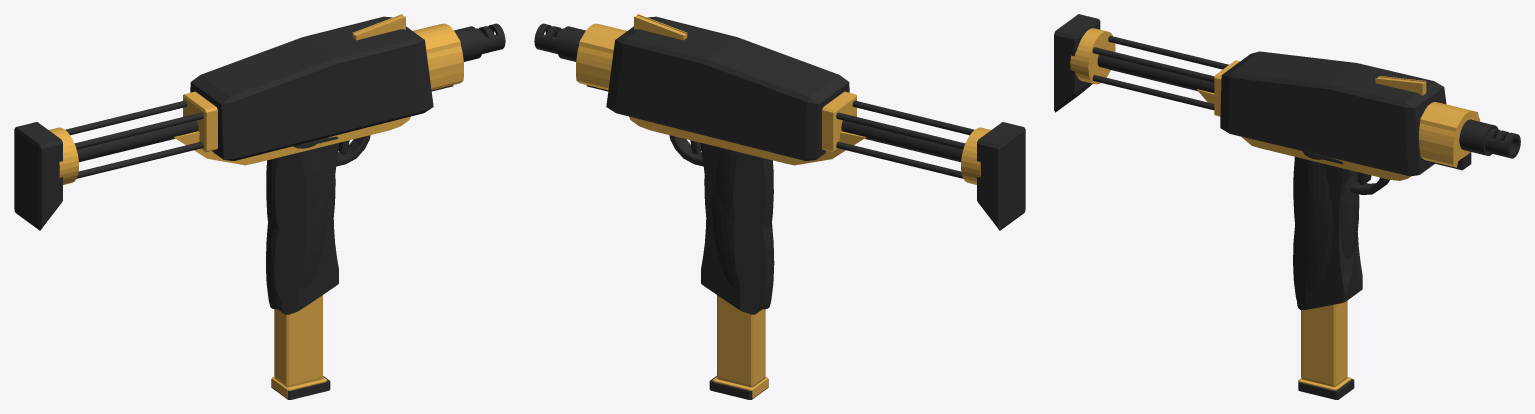
File: smg.fbx
3 views of the same model, side by side, from view 1: azimuth 30°, elevation 25°; view 2: azimuth 150°, elevation 25°; view 3: azimuth 330°, elevation 25° (orthographic). The views are drawn at different scales.
Parts seen in each view (by area): view 1: Cube.001; view 2: Cube.001; view 3: Cube.001.
Boxes of the visible parts, left/top/right/bottom form: Cube.001: left=14, top=14, right=505, bottom=399; Cube.001: left=534, top=14, right=1025, bottom=399; Cube.001: left=1054, top=14, right=1520, bottom=399.
Size of the model in its own units: 1906 by 1345 by 265.
